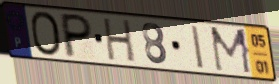8: (141, 21, 168, 66)
H: (102, 17, 137, 65)
I: (189, 24, 207, 72)
M: (208, 25, 255, 77)
O: (28, 10, 64, 58)
P: (60, 11, 94, 60)
